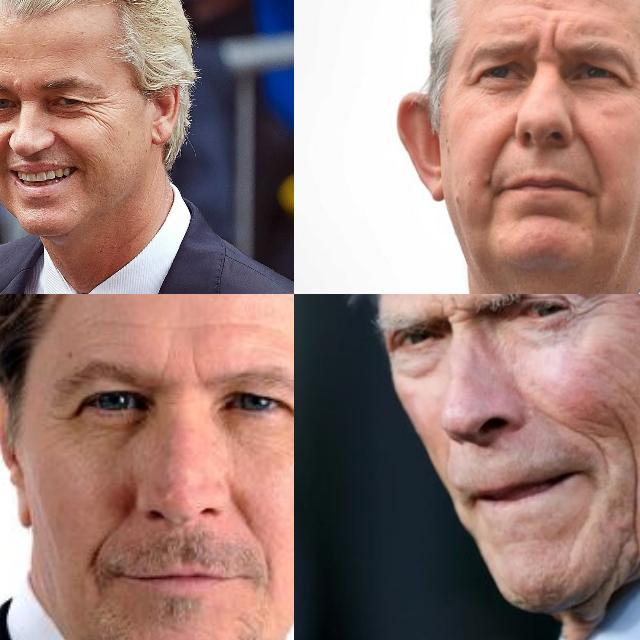crows_feet: (570, 294, 605, 326), (47, 408, 75, 428), (85, 98, 107, 120), (460, 66, 480, 90), (619, 73, 640, 92)
forehead: (84, 311, 170, 337), (188, 318, 286, 338), (528, 0, 561, 13)
frown_line: (153, 353, 201, 381), (440, 297, 476, 329), (543, 26, 561, 56)
gummy_smile: (548, 408, 604, 452), (226, 486, 264, 544), (105, 498, 131, 546), (577, 129, 603, 173), (488, 128, 512, 170)
masseter: (613, 422, 640, 532)
sad_smile: (85, 553, 106, 593), (258, 558, 274, 596)
